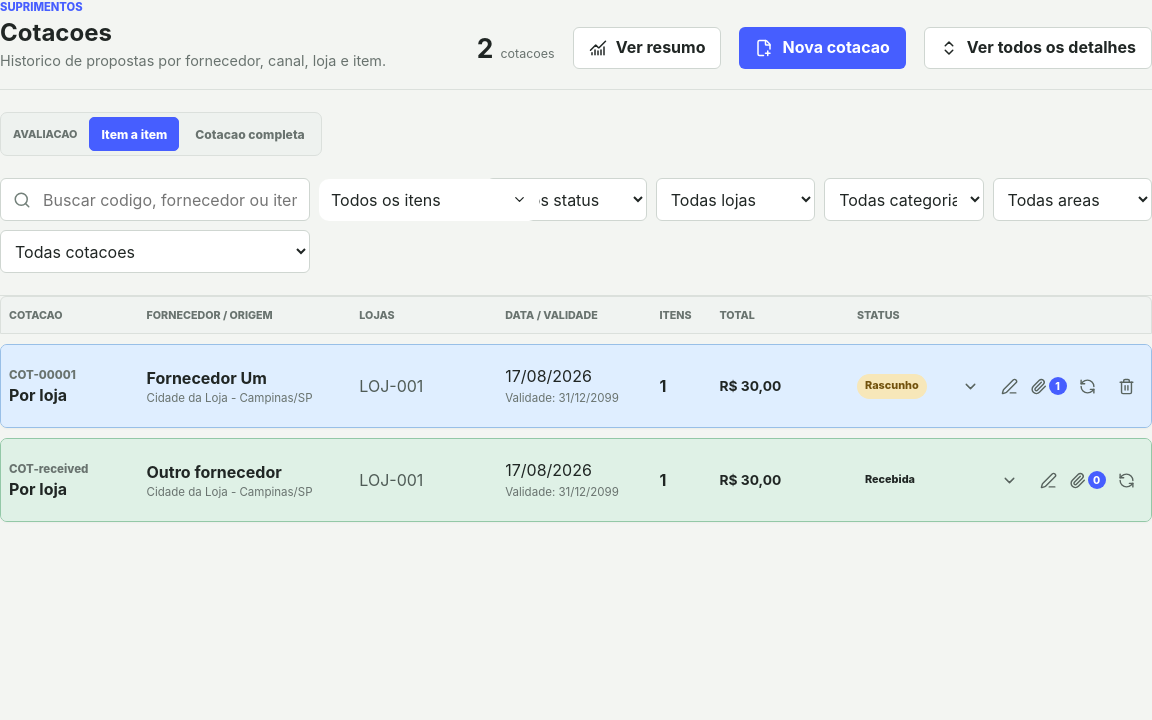
Test case: SupplyQuotesPage › mostra contagem de anexos e resume apenas as cotacoes filtradas
The image size is (1152, 720).
Expected: the button named "Anexos COT-00001 (1)" is shown, [1031,369,1065,403]
In the field named "Buscar cotacoes": (170, 200) [43,180,297,220], type "Fornecedor Um"
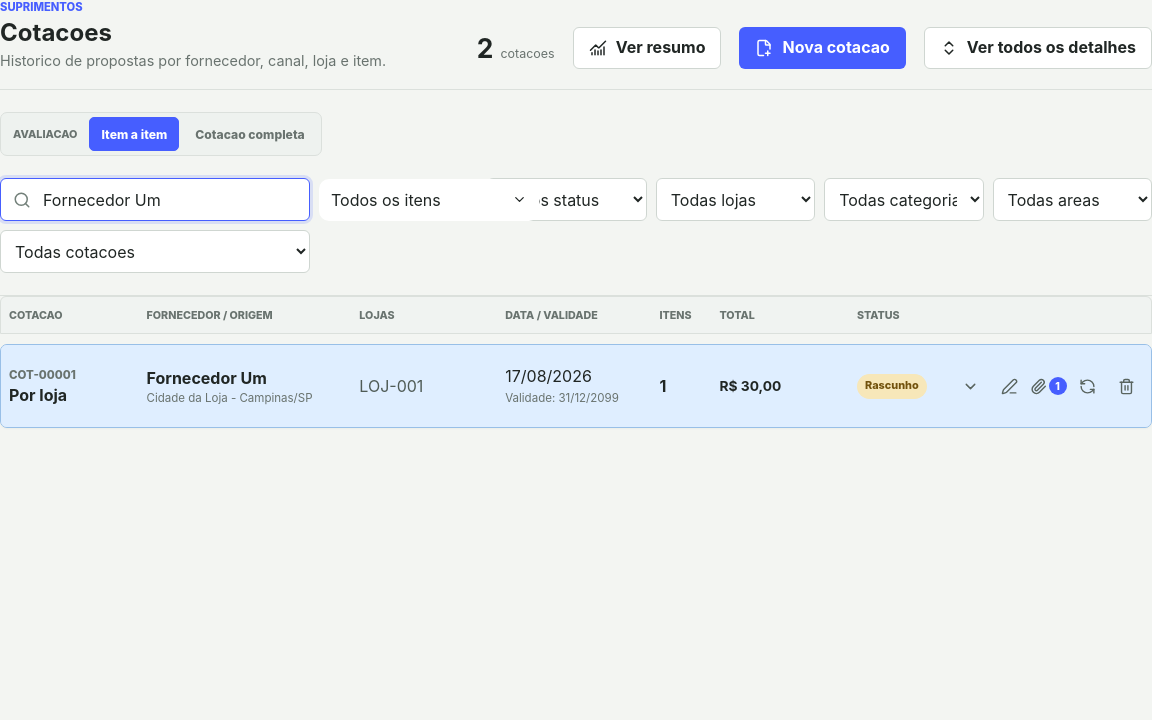
Select "Rascunho" in the dropdown named "Filtrar status": (567, 200) [487,178,647,221]
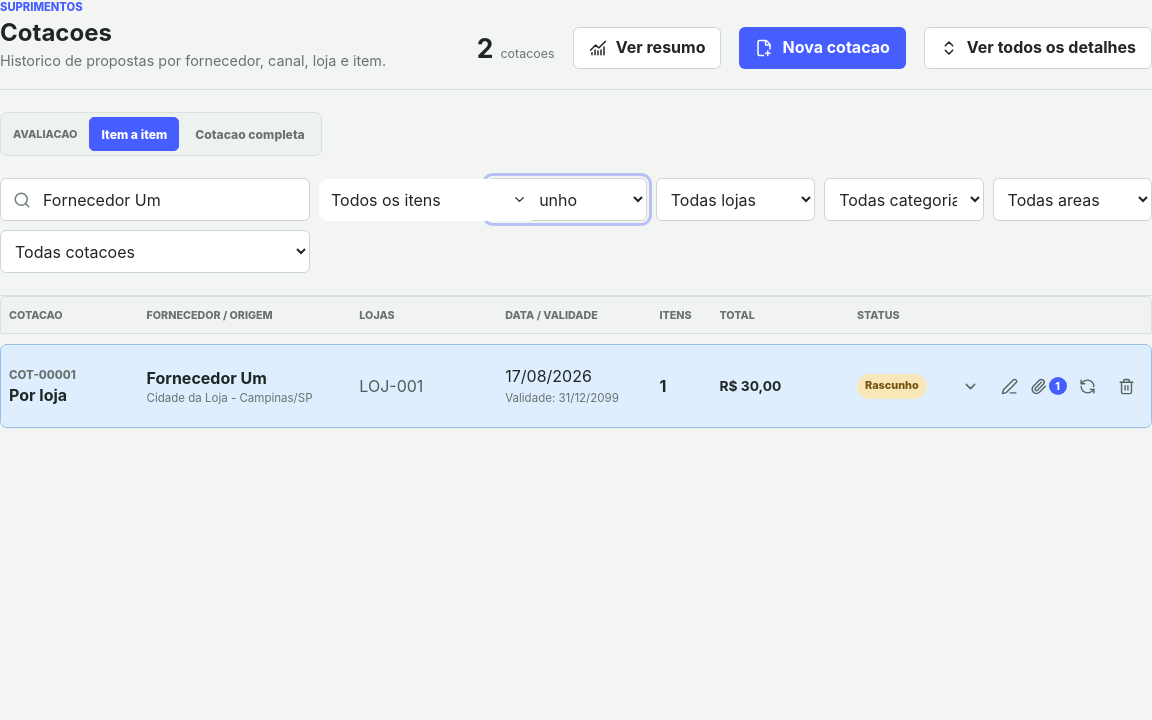
Select "LOJ-001" in the dropdown named "Filtrar loja": (736, 200) [656,178,815,221]
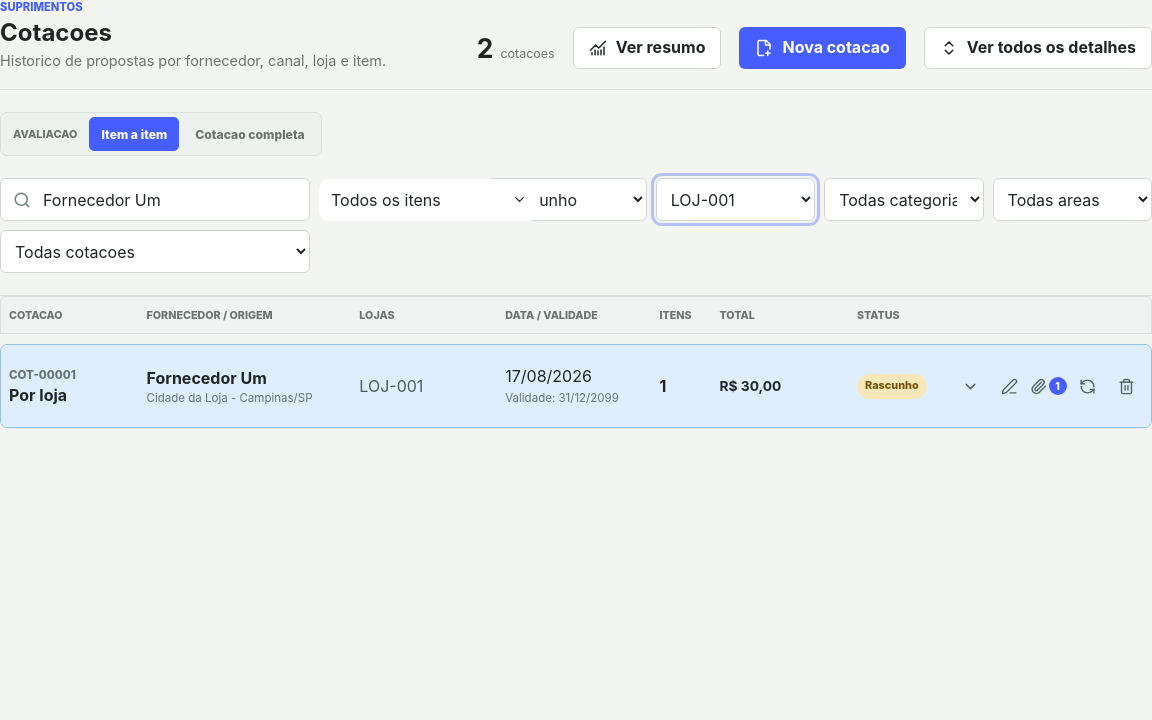
Click the button "Ver resumo": (647, 48) [573,27,722,69]
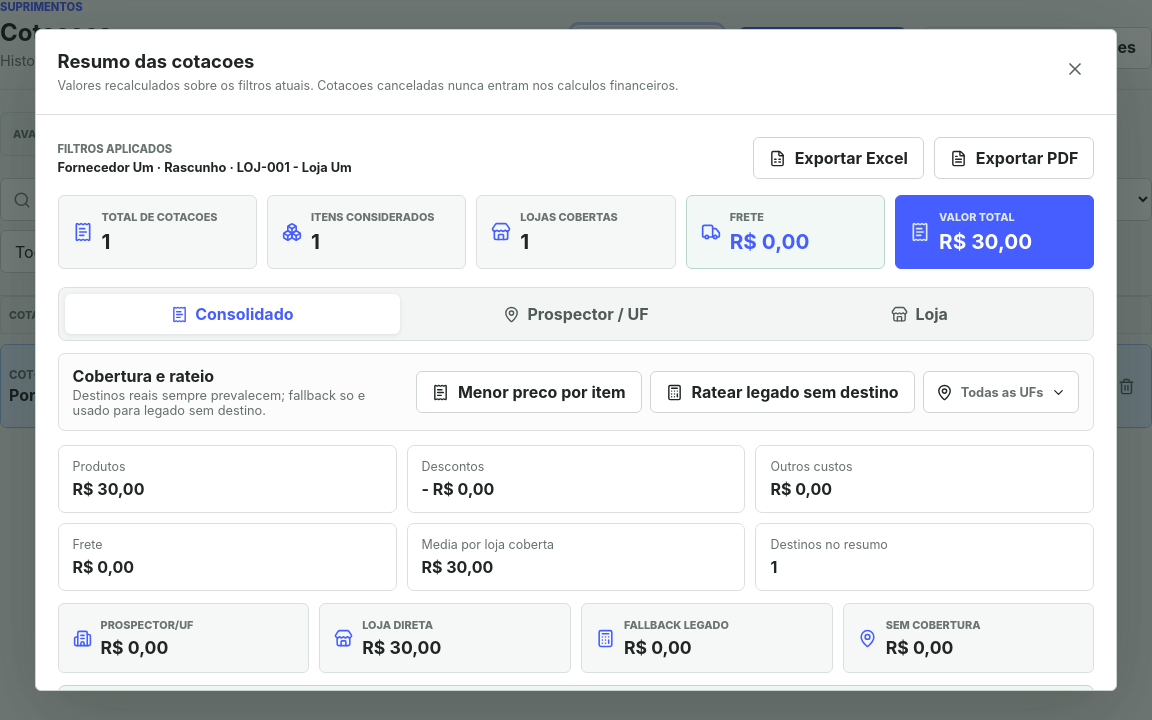
Expected: the text "Fornecedor Um · Rascunho · LOJ-001 - Loja Um" is shown, [58,160,352,175]
Expected: the text "Total de cotacoes" is shown, [102,210,218,224]
Expected: the text "1" below "Total de cotacoes" is shown, [102,229,110,254]
